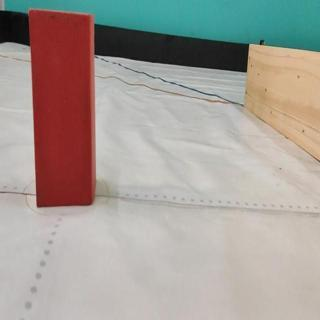redbox: (27, 7, 98, 208)
